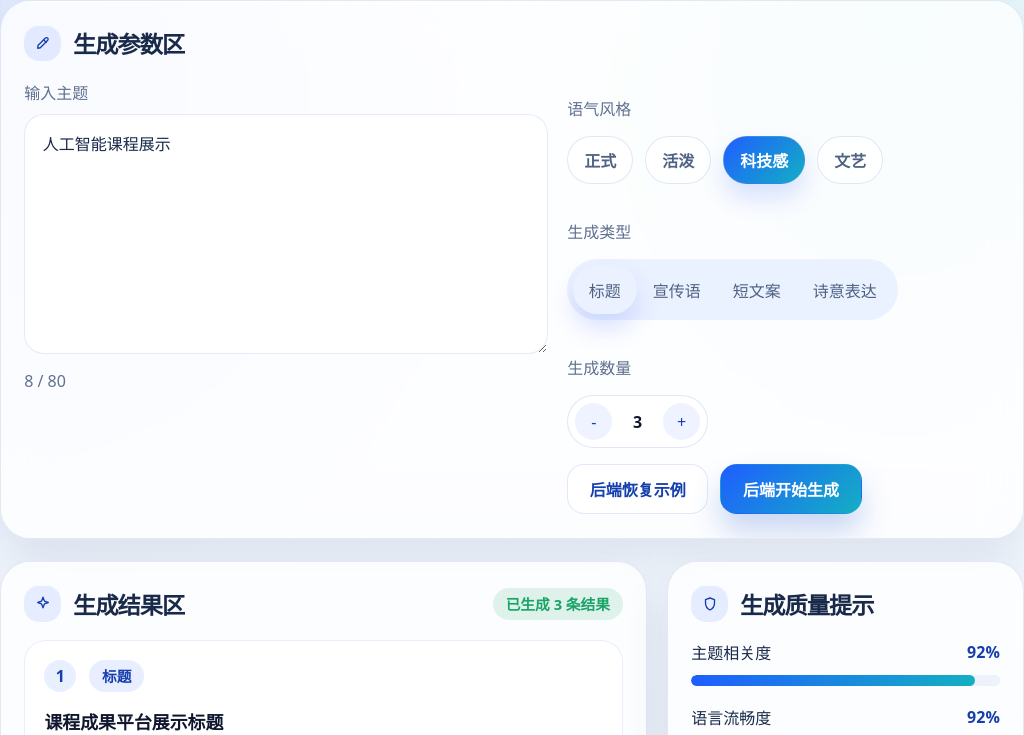
Scenario: TextGenerationPage › updates generated content from backend and can restore the local example state
Replace the text in the text box with "课程答辩展示自动化回归". click: x=286, y=234
box: 24,114 -> 548,354
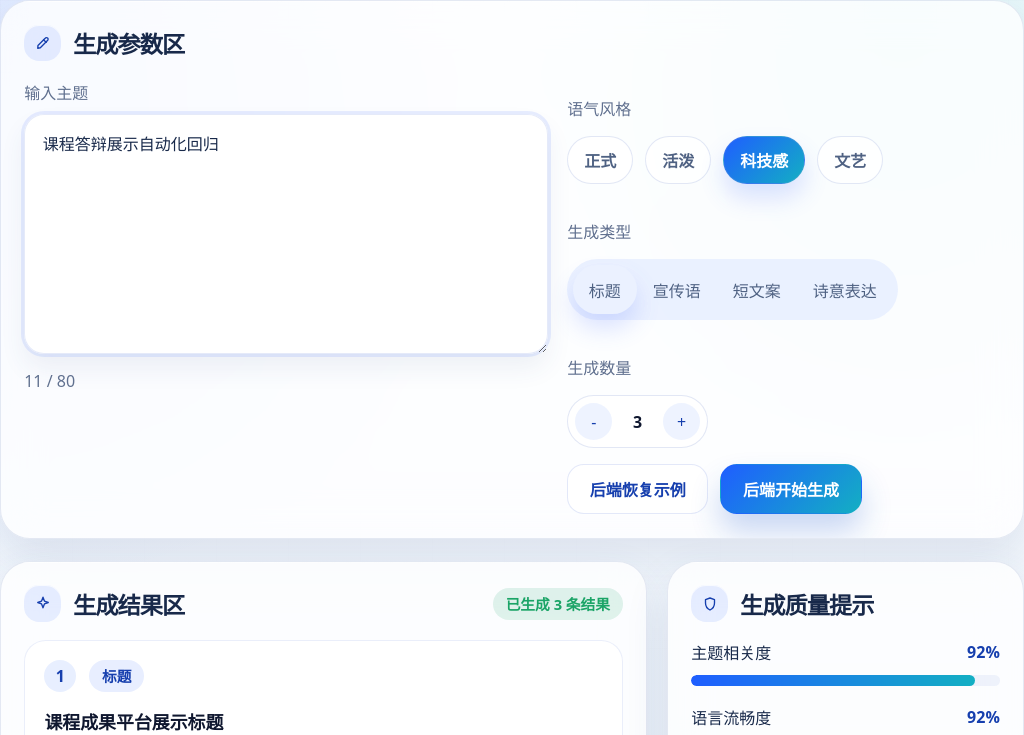
Click the button "正式". click: x=600, y=160
box: 567,135 -> 633,184
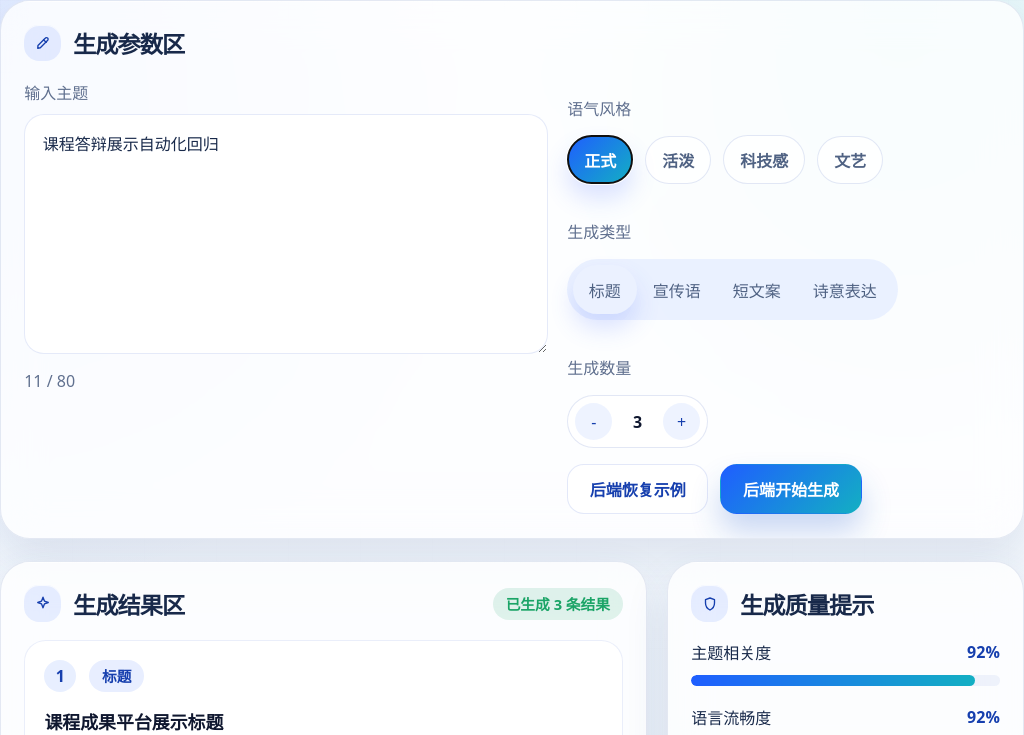
Click the button "宣传语". click: x=677, y=289
box: 637,264 -> 717,314
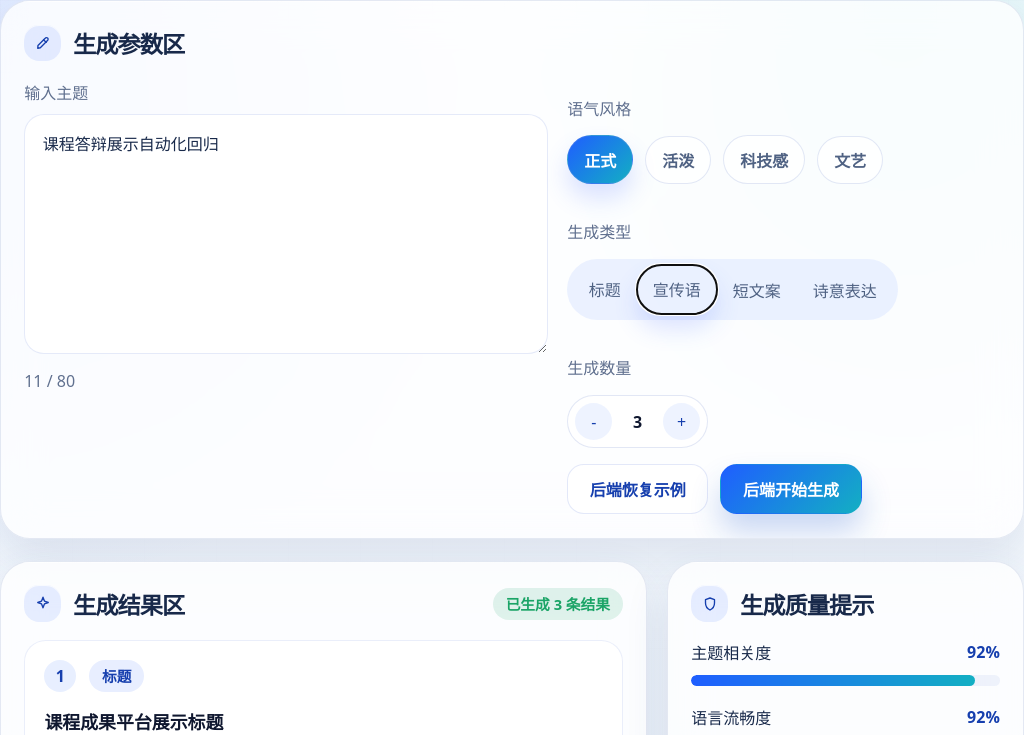
Click the button "后端开始生成". click: x=791, y=489
box: 720,464 -> 862,514
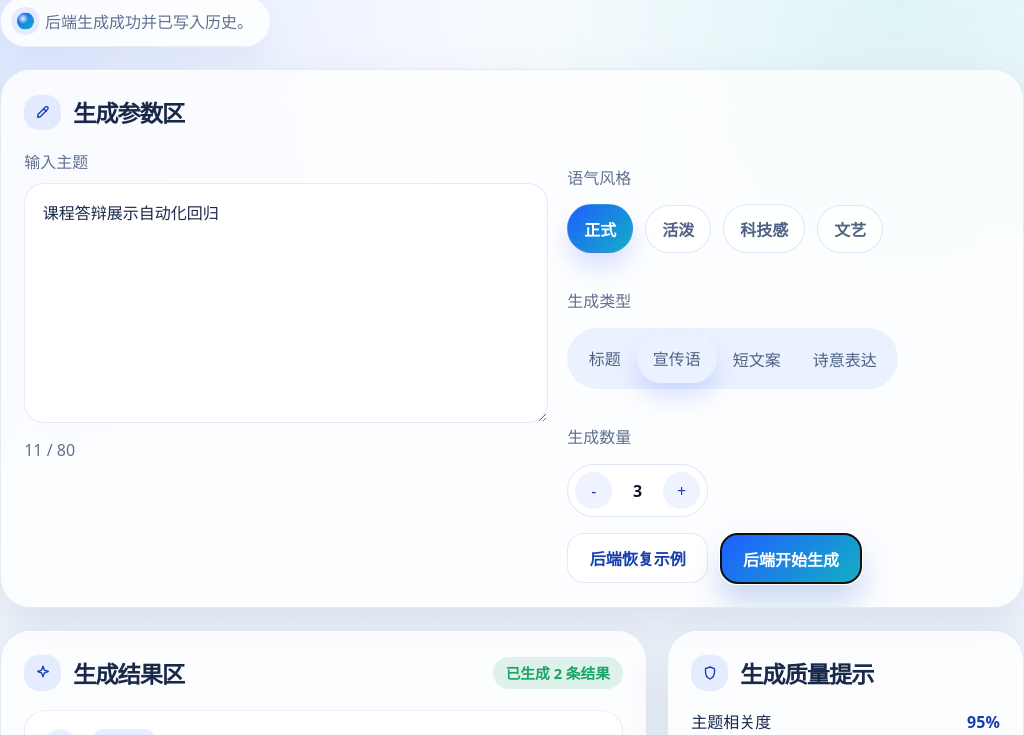
Click the button "后端恢复示例". click: x=638, y=559
box: 567,533 -> 708,584
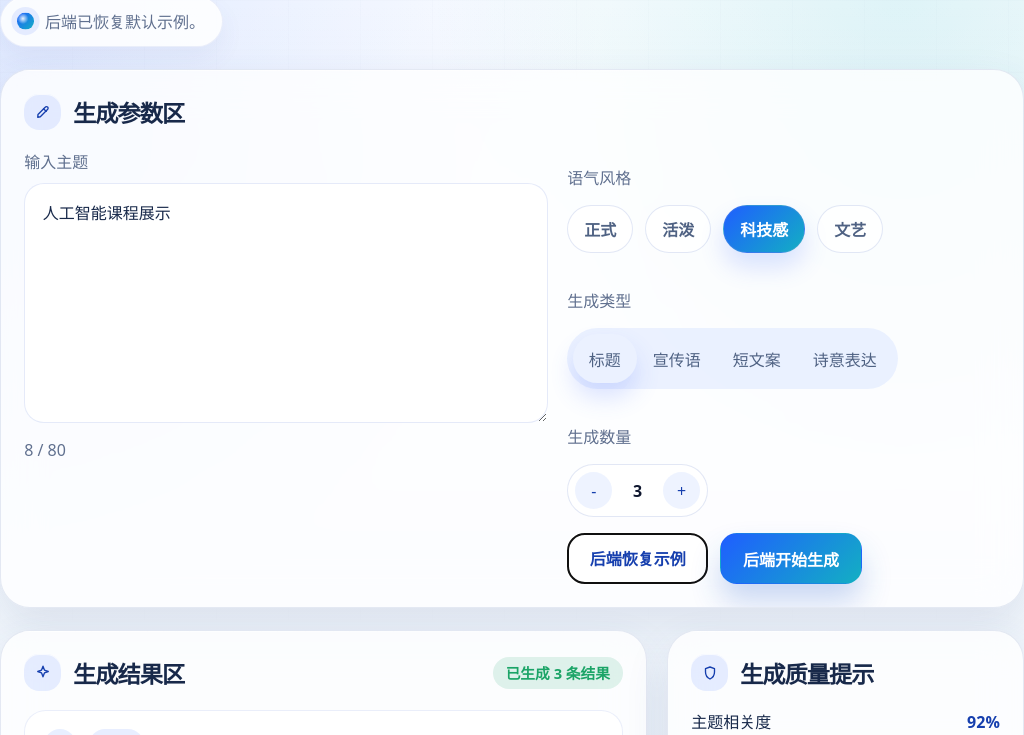
Now the text box holds "人工智能课程展示", box 24,183 -> 548,423
